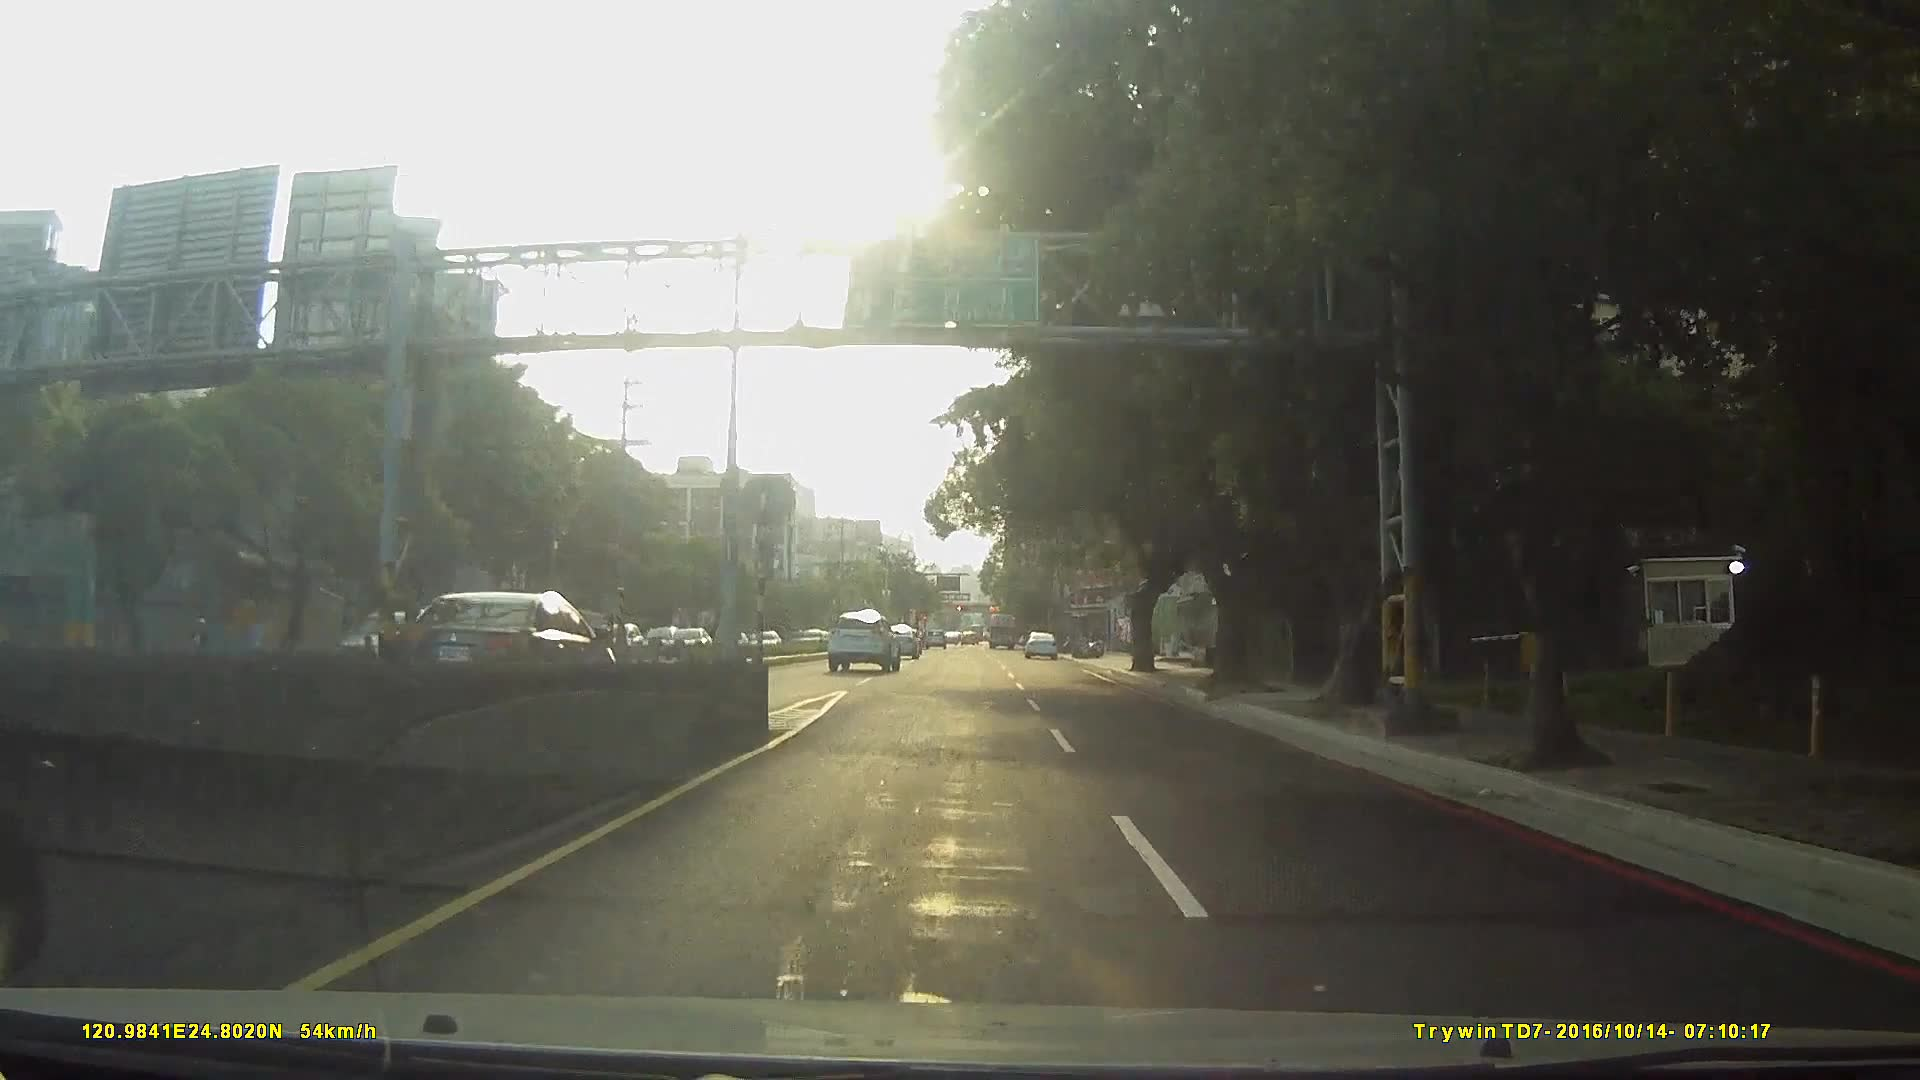vehicle: (389, 588, 618, 698), (825, 609, 899, 675), (880, 624, 920, 659), (986, 611, 1018, 649), (1021, 632, 1058, 659)
